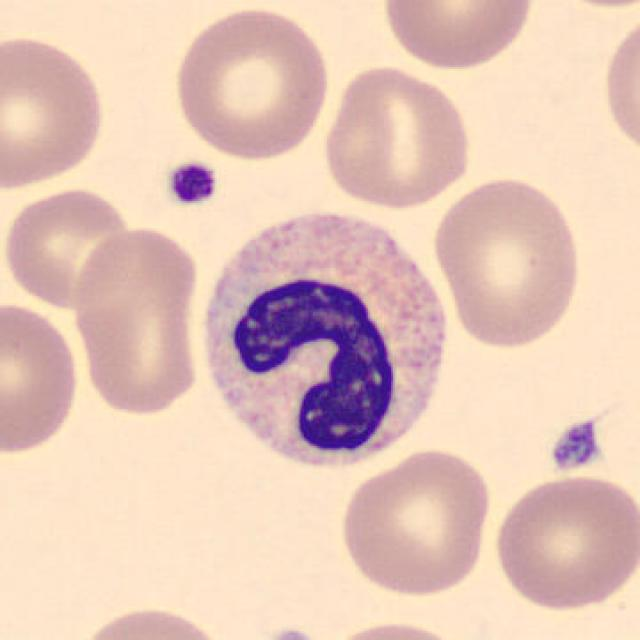Neutrophil: (188, 198, 461, 482)
Platelets: (546, 416, 606, 474), (162, 158, 220, 210)
RBC: (428, 171, 585, 353), (68, 222, 206, 420), (169, 2, 334, 164), (336, 444, 496, 598), (320, 62, 476, 212), (489, 471, 638, 614), (0, 182, 139, 312), (0, 30, 110, 194), (0, 298, 84, 458), (377, 0, 539, 72), (597, 7, 640, 166), (71, 601, 229, 640), (320, 617, 471, 640), (531, 0, 640, 14)
